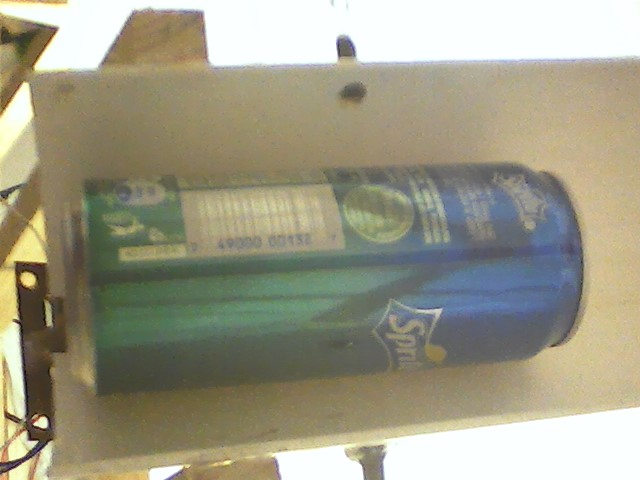lata: (52, 155, 599, 400)
